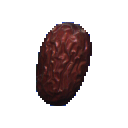gd: (13, 12, 126, 124)
